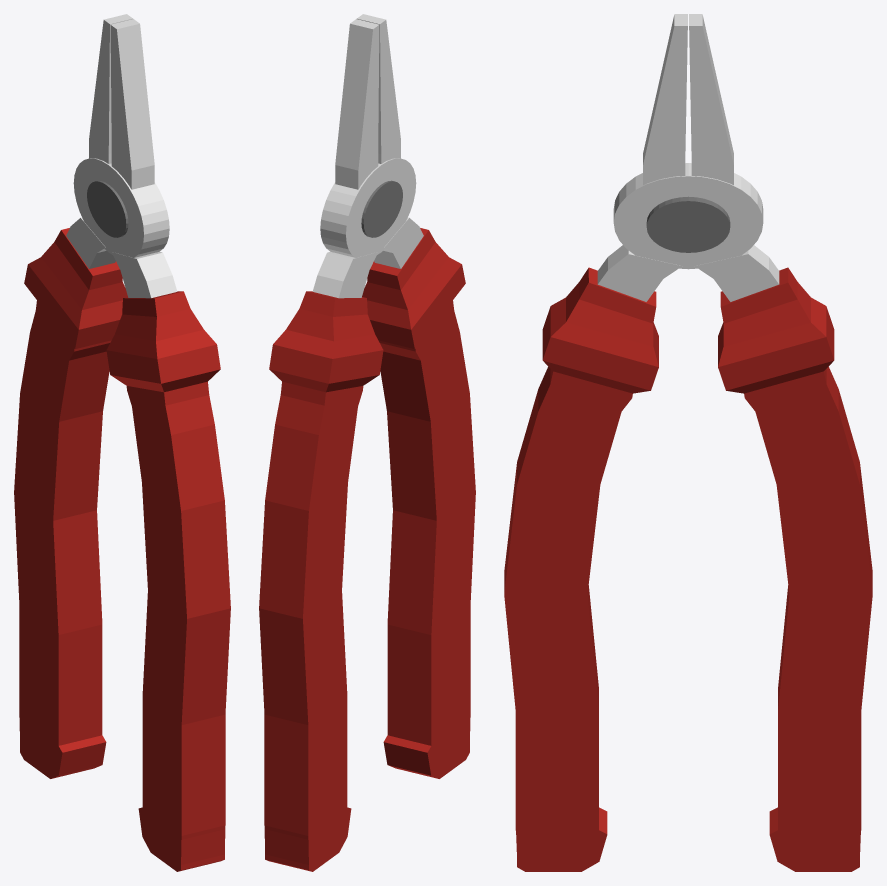
Rendered from nipper.fbx.
3 views of the same model, side by side, from view 1: azimuth 30°, elevation 25°; view 2: azimuth 150°, elevation 25°; view 3: azimuth 270°, elevation 25° (orthographic). The views are drawn at different scales.
Visible parts, largest first — view 1: Cube; view 2: Cube; view 3: Cube.
Boxes of the visible parts, bbox=[...] form: Cube: bbox=[14, 14, 230, 871]; Cube: bbox=[259, 14, 475, 871]; Cube: bbox=[504, 14, 872, 871].
Size of the model in its own units: 113 by 1424 by 566.
